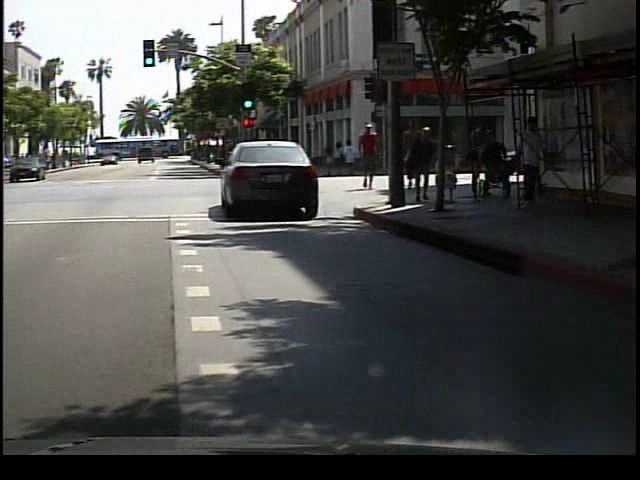person: (357, 118, 391, 199)
